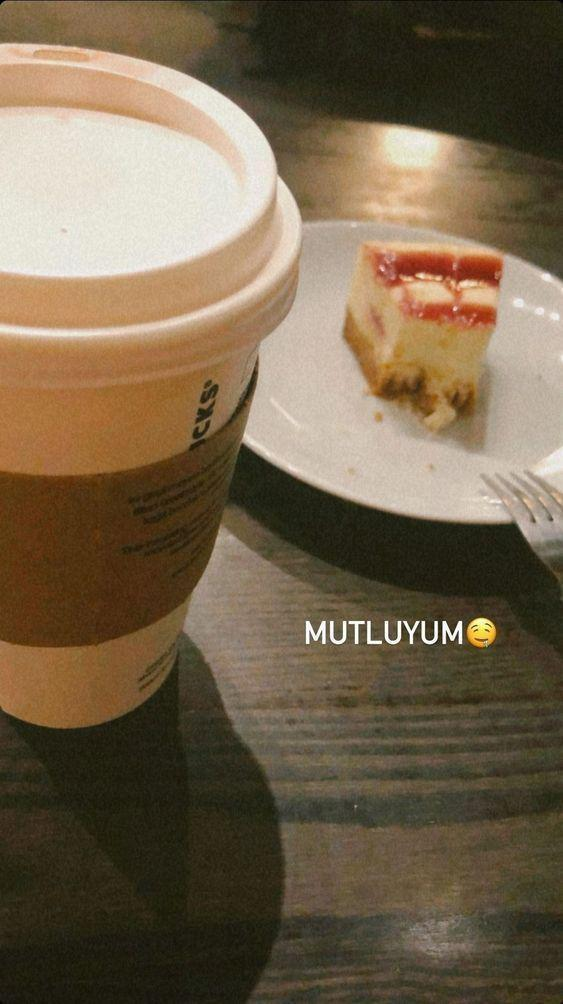cup-disposable: (1, 35, 304, 733)
